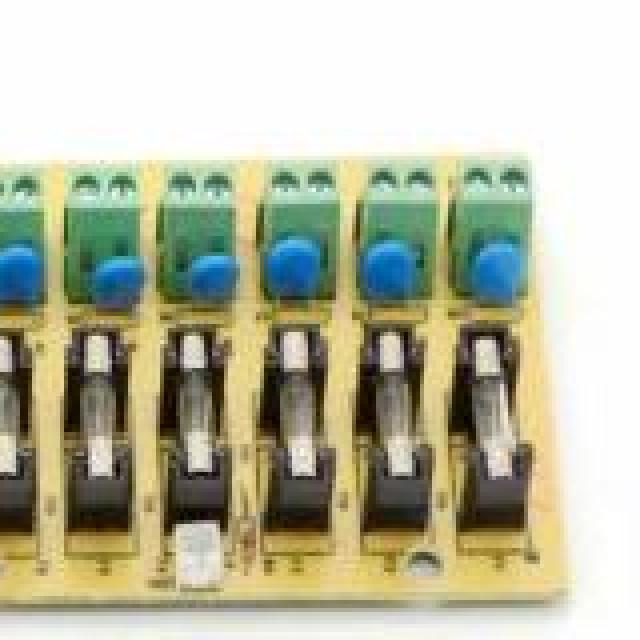connector: (60, 160, 152, 306), (260, 160, 350, 304), (360, 156, 444, 304), (160, 156, 240, 294), (460, 152, 540, 288), (0, 156, 48, 288)
fuse: (356, 316, 440, 536), (452, 324, 540, 524), (160, 320, 234, 492), (272, 312, 332, 506), (68, 324, 126, 500), (0, 316, 32, 500)
